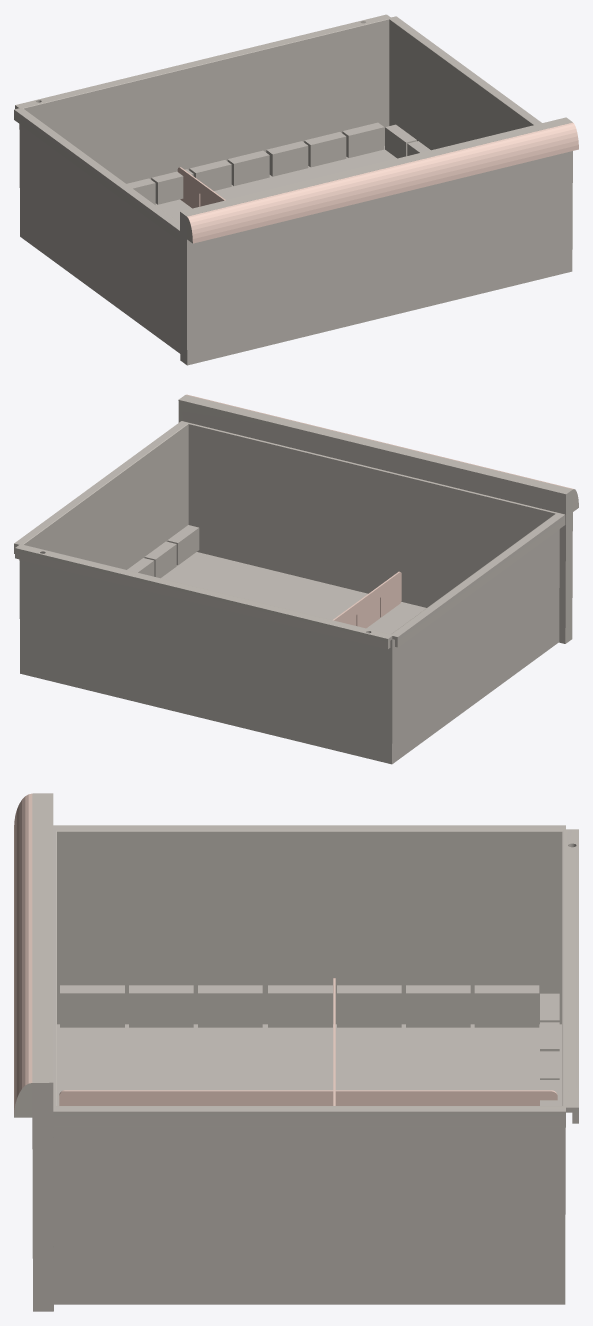
The model's file is 急救車抽屜-由上至下第五個.fbx.
The picture shows the model from 3 angles, top to bottom: view 1: azimuth 30°, elevation 25°; view 2: azimuth 150°, elevation 25°; view 3: azimuth 270°, elevation 25°; orthographic projection. The views are drawn at different scales.
Parts seen in each view (by area): view 1: drawer05_001_red001_0; view 2: drawer05_001_red001_0; view 3: drawer05_001_red001_0.
Boxes of the visible parts, x1,y1,x2,y2 form: drawer05_001_red001_0: (14,14,578,365); drawer05_001_red001_0: (14,394,578,764); drawer05_001_red001_0: (14,793,578,1311).
Size of the model in its own units: 362 by 134 by 299.
